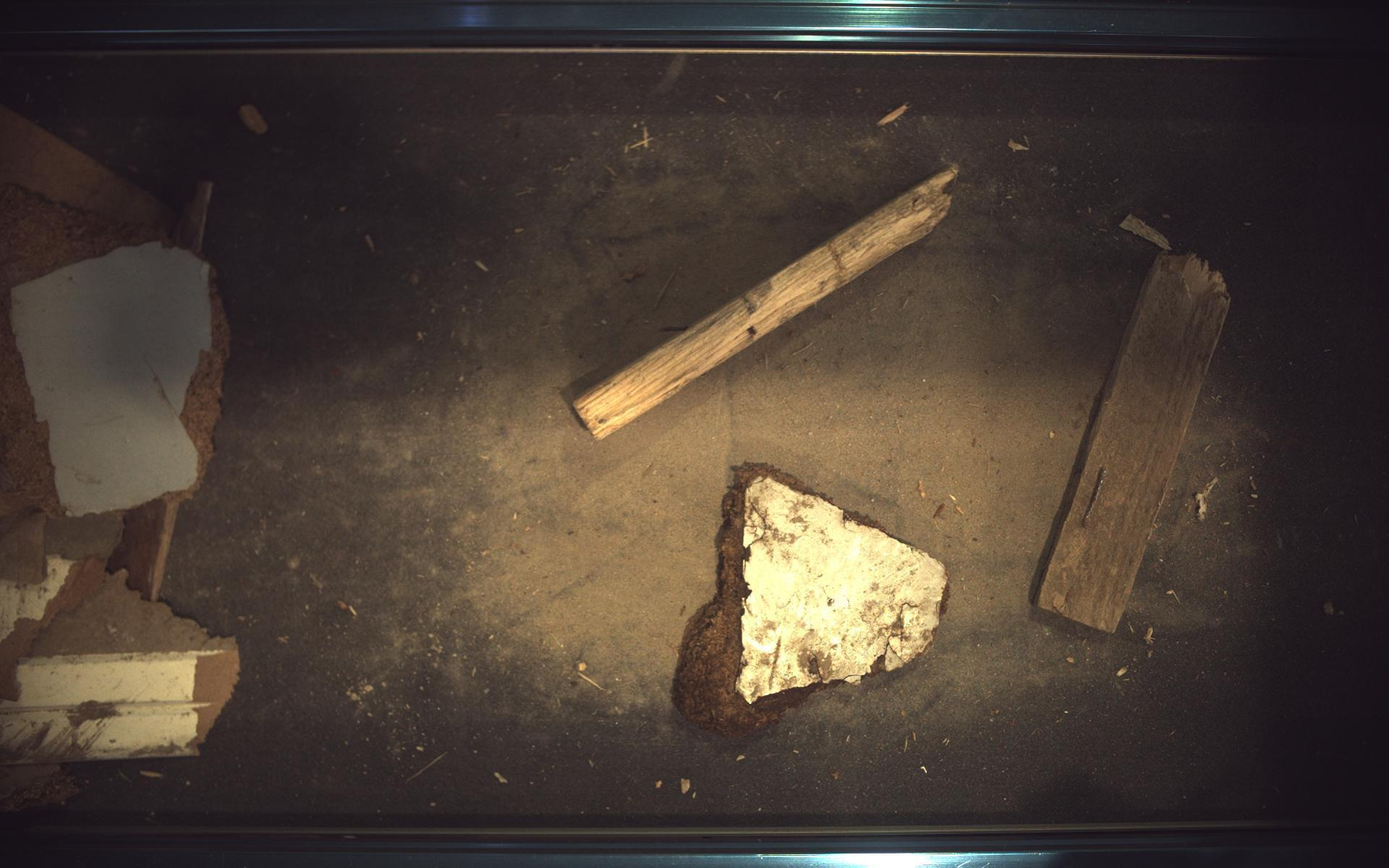wood: (573, 164, 959, 439), (674, 464, 949, 739), (1037, 252, 1233, 634)
